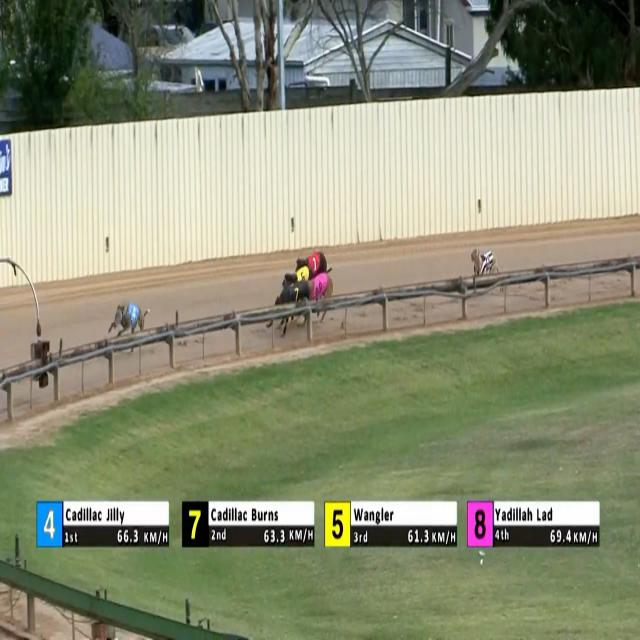dog_eight: (313, 278, 326, 298)
dog_five: (297, 268, 309, 288)
dog_four: (129, 304, 140, 324)
dog_one: (309, 253, 322, 272)
dog_seven: (290, 283, 302, 305)
dog_two: (482, 253, 494, 276)
rail: (2, 256, 637, 387)
